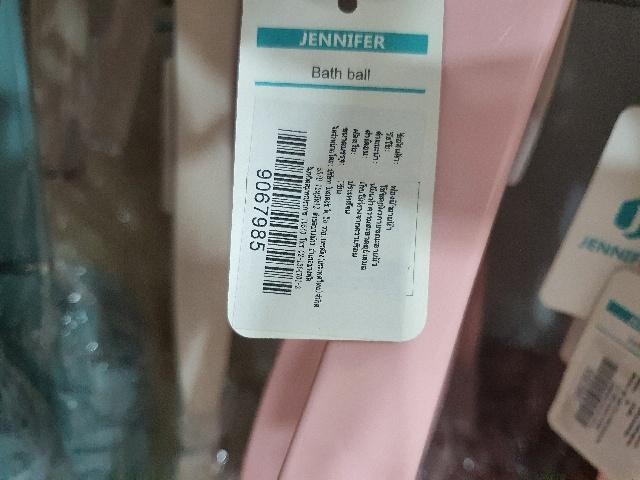Barcode: (243, 114, 314, 305)
